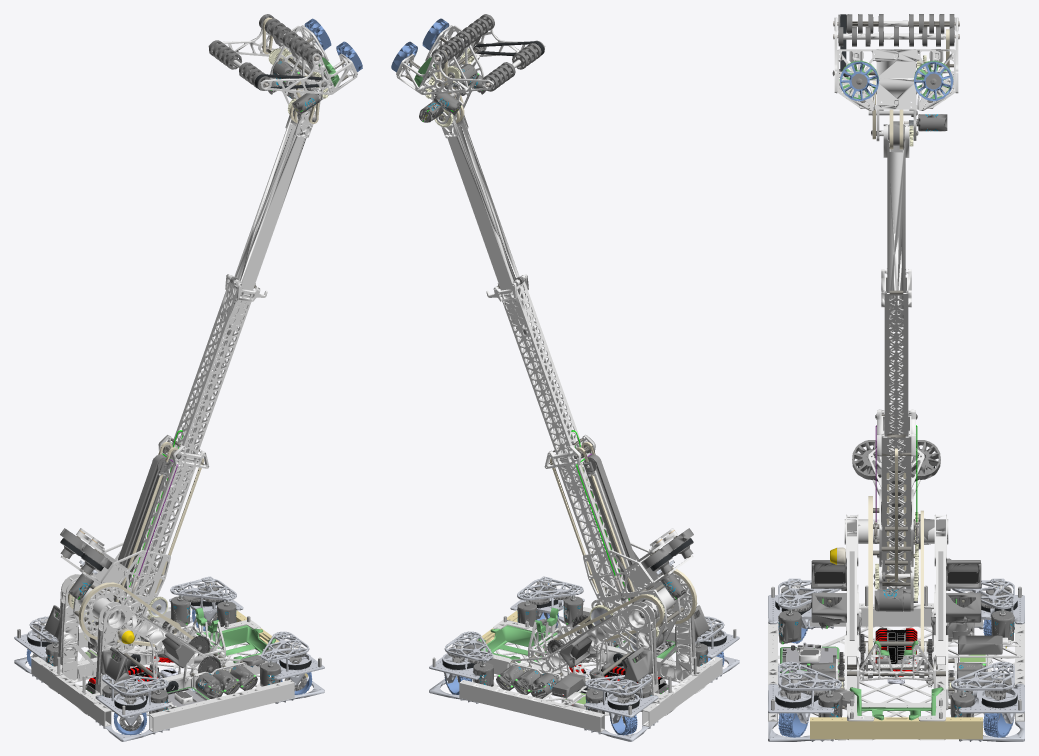
Rendered from spectre-2910.glb.
3 renders of one model, left to right at view 1: azimuth 30°, elevation 25°; view 2: azimuth 150°, elevation 25°; view 3: azimuth 270°, elevation 25°, orthographic. The views are drawn at different scales.
Visible parts, largest first — view 1: frame, arm, effector, elevator-stage, carriage, climber; view 2: frame, arm, effector, elevator-stage, carriage, climber; view 3: frame, effector, arm, elevator-stage, carriage, climber.
Part boxes in pixels (left/top/right/bottom): frame: left=14, top=574, right=324, bottom=741; arm: left=71, top=430, right=209, bottom=653; effector: left=208, top=14, right=362, bottom=124; elevator-stage: left=162, top=274, right=267, bottom=494; carriage: left=221, top=108, right=315, bottom=335; climber: left=60, top=528, right=170, bottom=600; frame: left=429, top=568, right=739, bottom=741; arm: left=544, top=430, right=692, bottom=653; effector: left=391, top=14, right=545, bottom=127; elevator-stage: left=486, top=274, right=591, bottom=494; carriage: left=441, top=108, right=532, bottom=334; climber: left=583, top=528, right=693, bottom=600; frame: left=768, top=496, right=1024, bottom=741; effector: left=832, top=14, right=959, bottom=149; arm: left=858, top=409, right=934, bottom=611; elevator-stage: left=881, top=268, right=911, bottom=470; carriage: left=883, top=121, right=909, bottom=327; climber: left=852, top=440, right=940, bottom=566.
Size of the model in its own units: 0.9619 by 2.07 by 0.6604.
